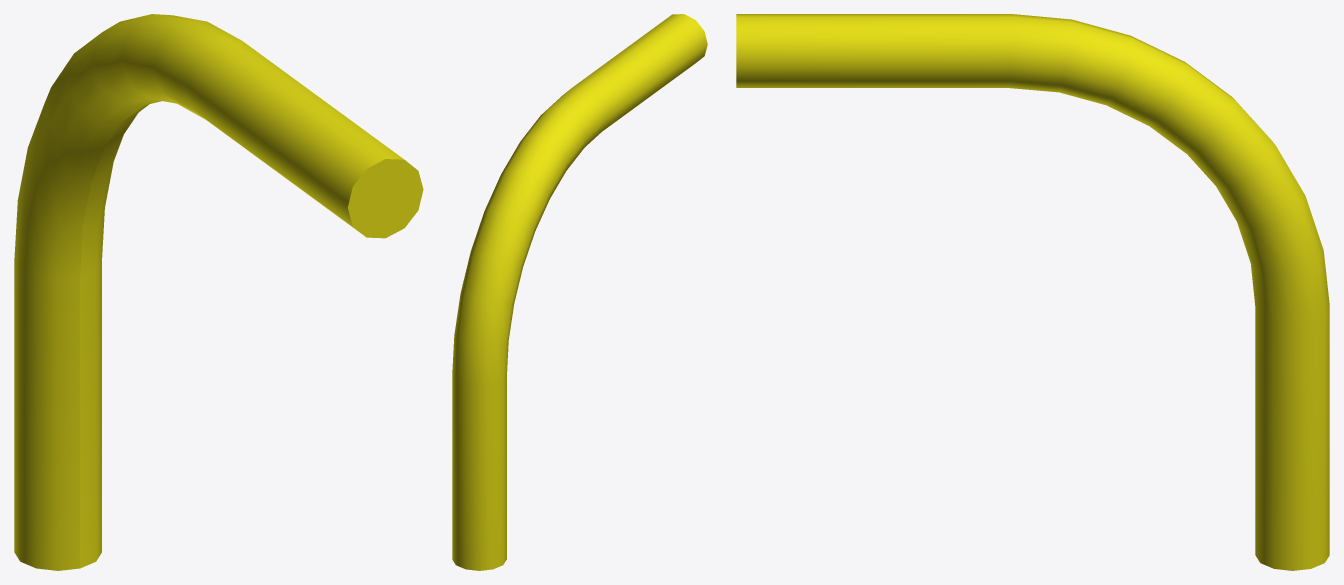
Rendered from PipeSM5.fbx.
The picture shows the model from 3 angles, left to right: view 1: azimuth 30°, elevation 25°; view 2: azimuth 150°, elevation 25°; view 3: azimuth 270°, elevation 25°; orthographic projection. The views are drawn at different scales.
Parts seen in each view (by area): view 1: PipeSM5; view 2: PipeSM5; view 3: PipeSM5.
Part boxes in pixels (x1,y1,x2,y2): PipeSM5: (14,14,423,570); PipeSM5: (452,14,707,570); PipeSM5: (736,14,1329,570).
Bounding box in the file's own units: 13.37 × 107 × 107.
